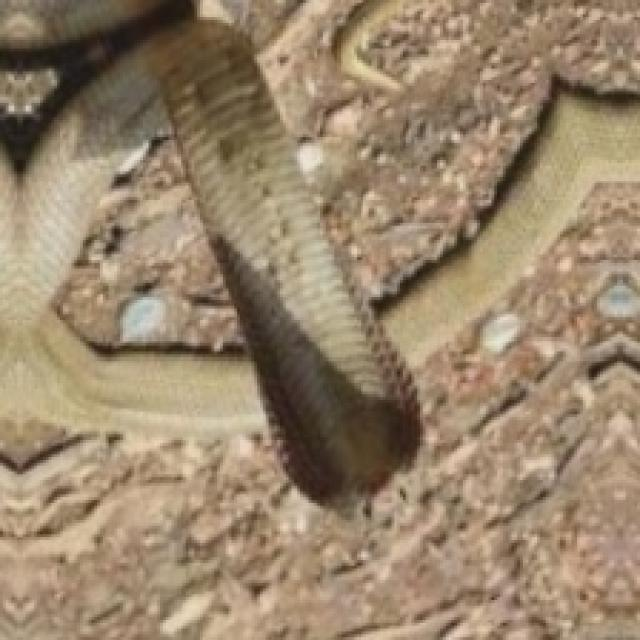philippine cobra: (0, 0, 417, 506)
